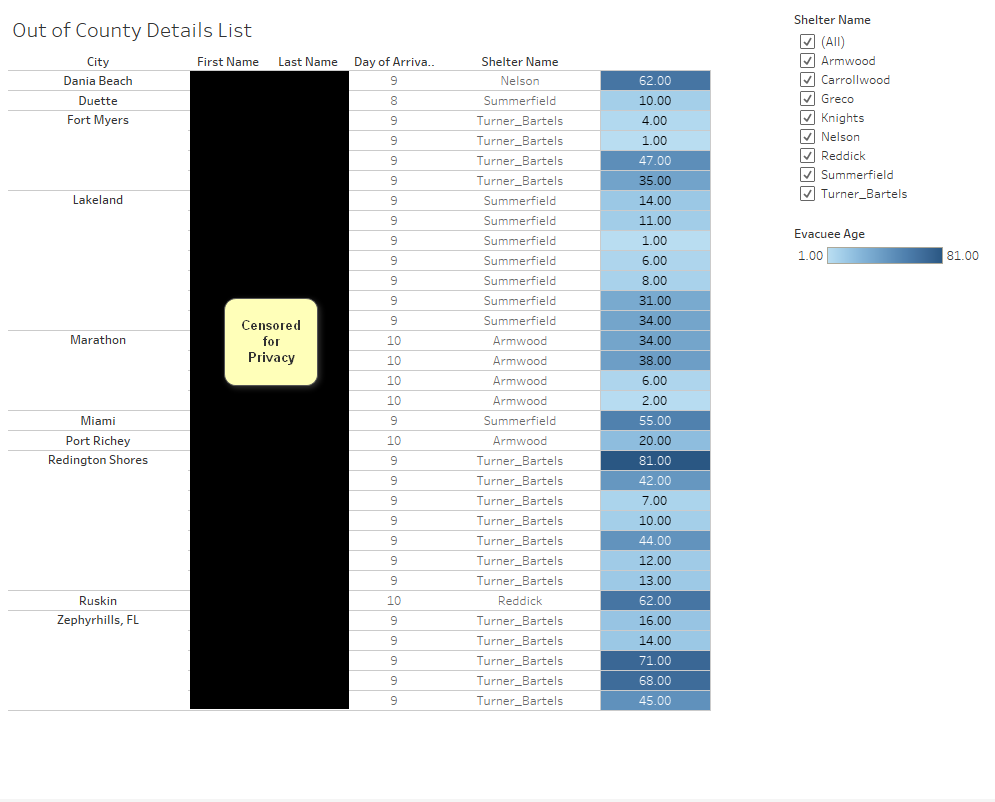

This screenshot's page, from the dashboard's own definition file:
{"tool":"tableau","page":{"name":"Out of County Detail","canvas":[1000,800],"ordinal":6},"visuals":[{"type":"worksheet","title":"Out of County Details List","mark":"Square","rows":["City","FirstName","LastName","ArrivalDate","shelter_name"],"box":[8,8,786,784]},{"type":"filter","title":"Out of County Details List","param":"[federated.15be31n0i91izv1g0m27v0riro1y].[none:shelter_name:nk]","box":[794,8,198,214]},{"type":"legend","title":"Out of County Details List","param":"[federated.15be31n0i91izv1g0m27v0riro1y].[sum:Age:qk]","box":[794,222,198,65]}]}

Visuals, with their boxes in screenshot pixels (x1, y1, x2, y2), scaled from the page's 1000x800 canvas onto the 995x802 screenshot:
"Out of County Details List" worksheet (Square marks): bbox=(8, 8, 790, 794)
"Out of County Details List" filter: bbox=(790, 8, 987, 223)
"Out of County Details List" legend: bbox=(790, 223, 987, 288)
